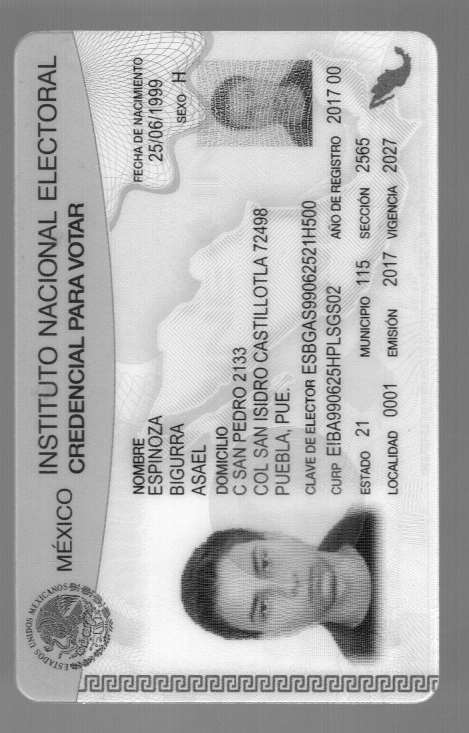ESCUDO: (26, 583, 113, 671)
MAPA: (369, 47, 412, 109)
PALABRA: (37, 55, 57, 200)
